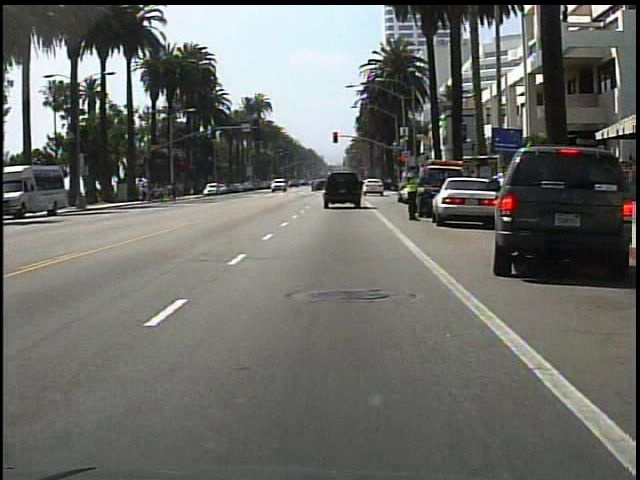person: (402, 165, 423, 222)
